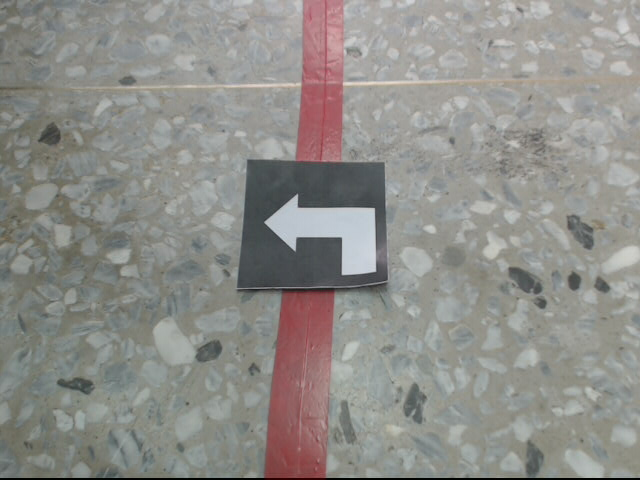left: (238, 154, 390, 290)
